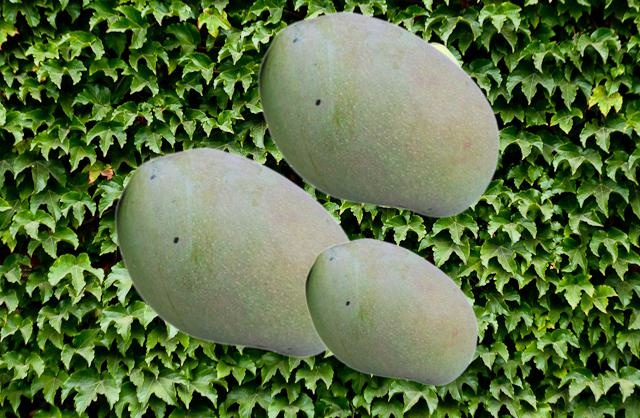green_mango: (257, 10, 499, 217), (114, 146, 350, 357), (304, 237, 477, 385)
